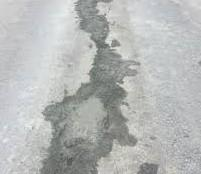pothole: (29, 0, 143, 174)
